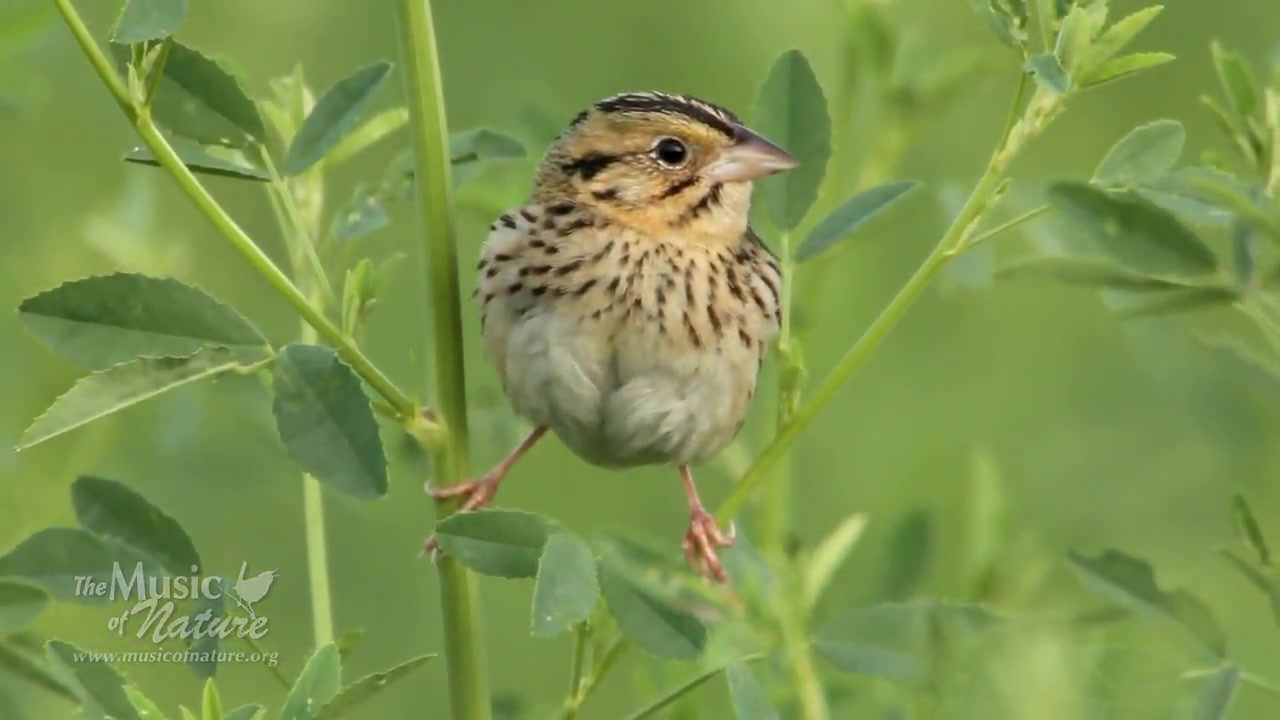bird: (422, 90, 801, 584)
